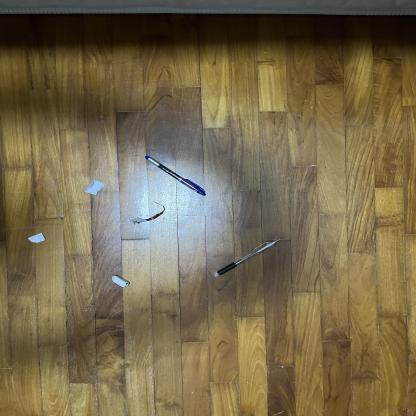dirty: (127, 200, 168, 226), (78, 180, 105, 194), (26, 232, 48, 244)
